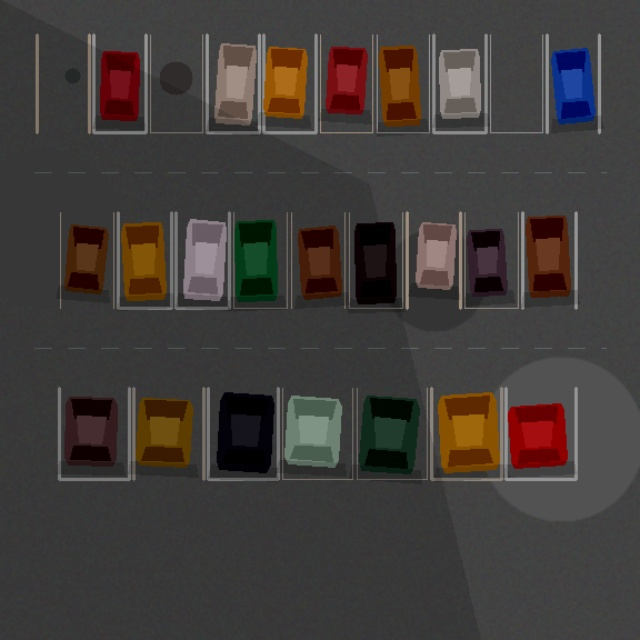space-empty: (37, 34, 89, 132), (150, 34, 202, 132), (490, 34, 542, 132)
space-occupied: (59, 388, 129, 479), (133, 388, 203, 479), (208, 388, 278, 479), (282, 388, 352, 479), (357, 388, 427, 479), (431, 388, 501, 479), (506, 388, 576, 479), (93, 34, 146, 132), (263, 34, 316, 132), (433, 34, 486, 132), (233, 212, 287, 308), (464, 212, 518, 308), (522, 212, 576, 308), (207, 34, 259, 132), (320, 34, 372, 132), (377, 34, 429, 132), (547, 34, 599, 132), (60, 212, 113, 308), (118, 212, 171, 308), (176, 212, 229, 308), (291, 212, 344, 308), (349, 212, 402, 308), (407, 212, 460, 308)
